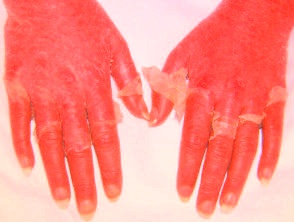SJS-TEN: (0, 46, 154, 175), (135, 56, 293, 145)
